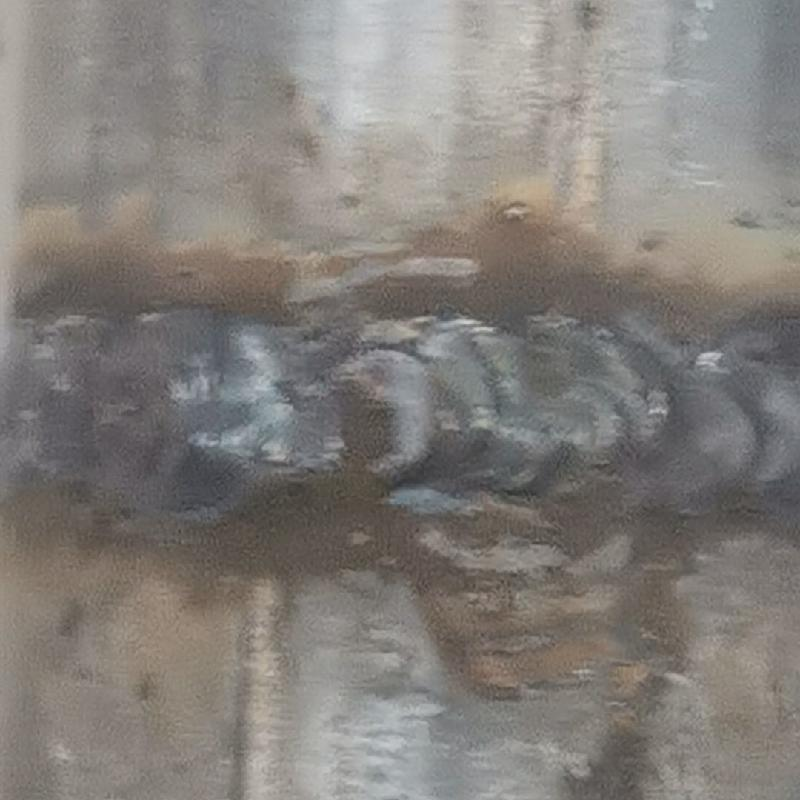good: (6, 300, 799, 524)
